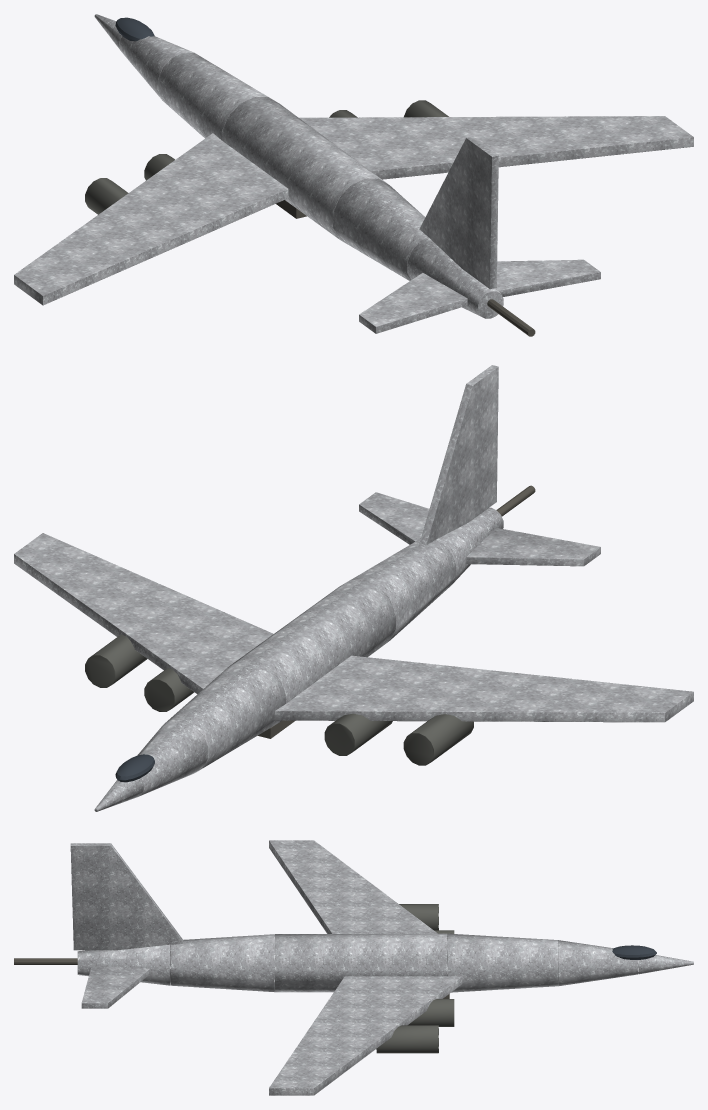
The model's file is mpa_e1_us_maritime_LOD1.glb.
The picture shows the model from 3 angles, top to bottom: view 1: azimuth 30°, elevation 25°; view 2: azimuth 150°, elevation 25°; view 3: azimuth 270°, elevation 25°; orthographic projection. The views are drawn at different scales.
Parts seen in each view (by area): view 1: mpa_e1_us_maritime_LOD1_body, mpa_e1_us_maritime_LOD1_gun, mpa_e1_us_maritime_LOD1_deck, mpa_e1_us_maritime_LOD1_glass; view 2: mpa_e1_us_maritime_LOD1_body, mpa_e1_us_maritime_LOD1_gun, mpa_e1_us_maritime_LOD1_glass, mpa_e1_us_maritime_LOD1_deck; view 3: mpa_e1_us_maritime_LOD1_body, mpa_e1_us_maritime_LOD1_gun, mpa_e1_us_maritime_LOD1_glass, mpa_e1_us_maritime_LOD1_deck.
Part boxes in pixels (x1,y1,x2,y2): mpa_e1_us_maritime_LOD1_body: (14,14,693,333); mpa_e1_us_maritime_LOD1_gun: (85,100,448,214); mpa_e1_us_maritime_LOD1_deck: (276,200,535,336); mpa_e1_us_maritime_LOD1_glass: (115,17,154,41); mpa_e1_us_maritime_LOD1_body: (14,365,693,811); mpa_e1_us_maritime_LOD1_gun: (85,634,473,765); mpa_e1_us_maritime_LOD1_glass: (115,754,154,782); mpa_e1_us_maritime_LOD1_deck: (258,485,535,738); mpa_e1_us_maritime_LOD1_body: (70,840,693,1095); mpa_e1_us_maritime_LOD1_gun: (376,904,454,1053); mpa_e1_us_maritime_LOD1_glass: (612,945,656,959); mpa_e1_us_maritime_LOD1_deck: (14,958,449,998).
Bounding box in the file's own units: 37.59 × 10.55 × 43.58.
Materials: 4 (1 with a texture image).
